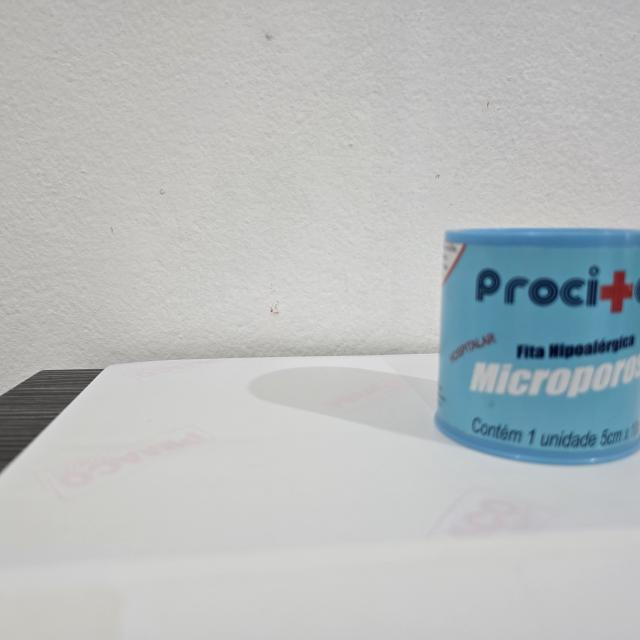procitex: (430, 222, 640, 469)
